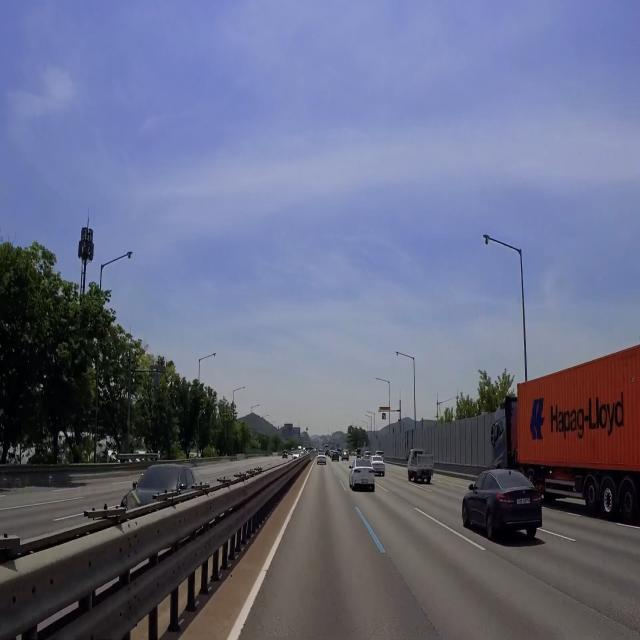car: (516, 495, 532, 510), (359, 472, 371, 489)
